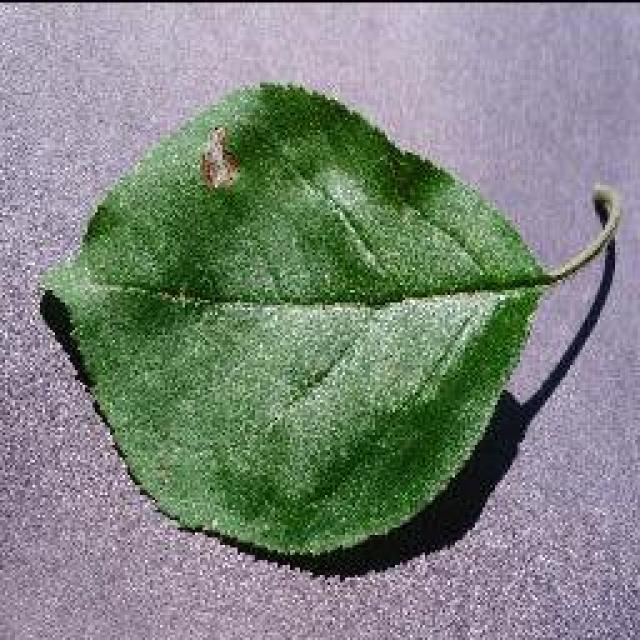Black_rot: (35, 78, 620, 562)
